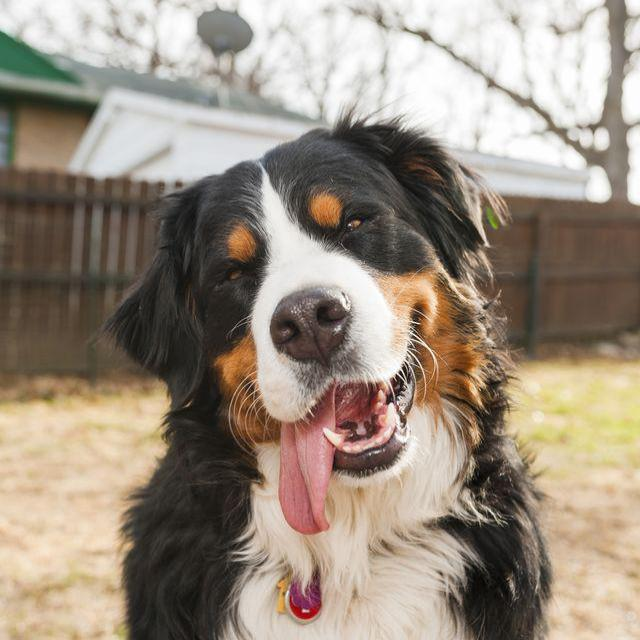Dog: (102, 101, 526, 512)
